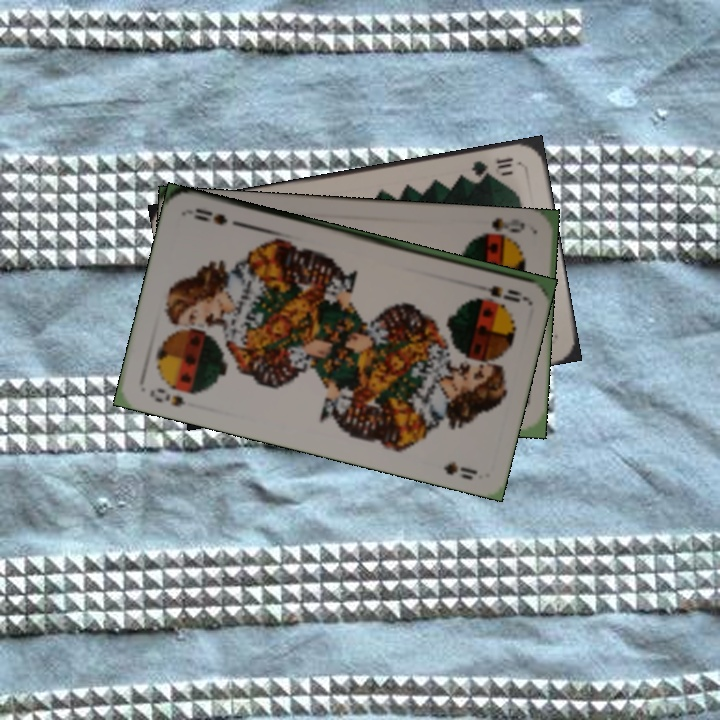G10: (467, 153, 516, 180)
SO: (472, 213, 528, 241), (467, 279, 526, 305), (145, 383, 189, 409)
